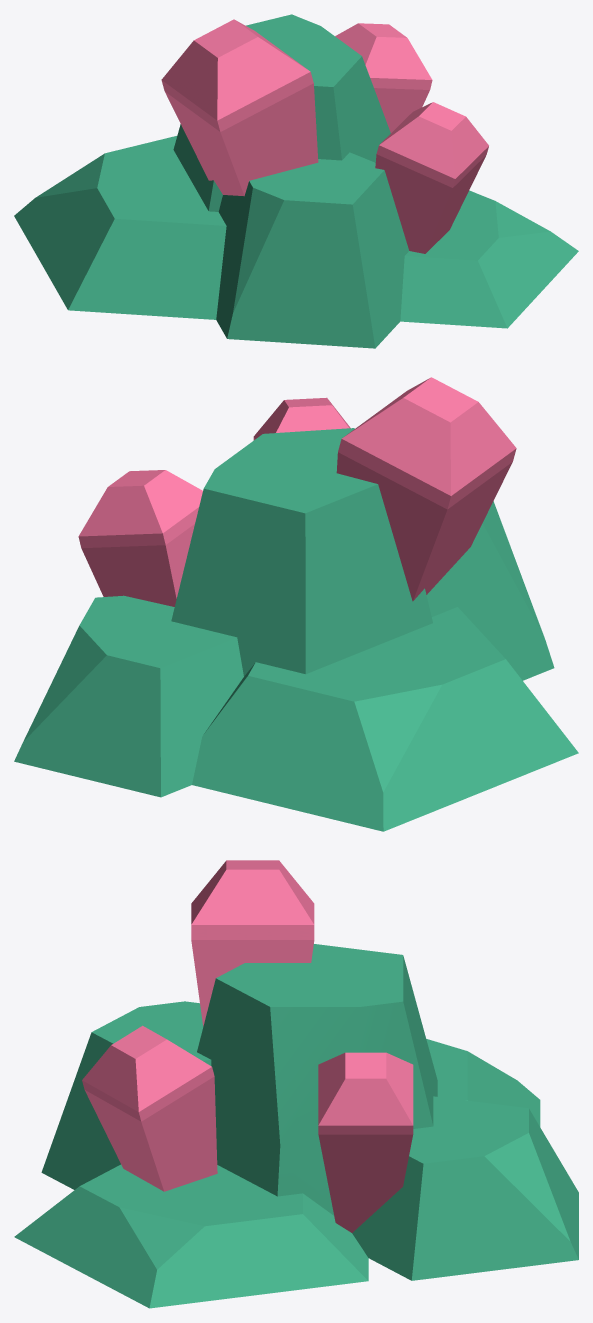
Rendered from detail_crystalLarge.dae.
The picture shows the model from 3 angles, top to bottom: view 1: azimuth 30°, elevation 25°; view 2: azimuth 150°, elevation 25°; view 3: azimuth 270°, elevation 25°; orthographic projection. The views are drawn at different scales.
Parts seen in each view (by area): view 1: rocks, crystal (×3); view 2: rocks, crystal (×3); view 3: rocks, crystal (×3).
Boxes of the visible parts, x1,y1,x2,y2 form: rocks: (14, 14, 578, 348); crystal (×3): (161, 19, 488, 253); rocks: (14, 428, 578, 831); crystal (×3): (78, 377, 516, 606); rocks: (14, 944, 578, 1308); crystal (×3): (82, 860, 413, 1232).
Bounding box in the file's own units: 1 × 0.5565 × 1.
